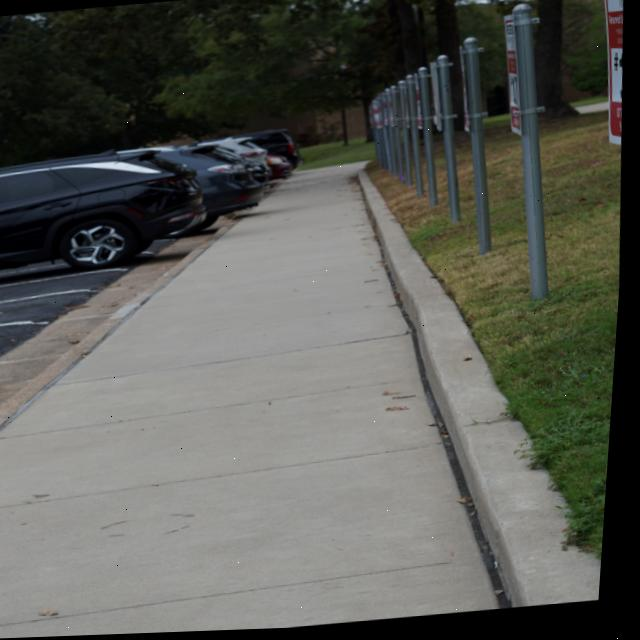Automobile: (0, 150, 209, 270), (152, 145, 270, 232), (198, 139, 274, 179), (248, 132, 306, 171), (269, 158, 295, 182)
Road: (0, 219, 231, 410)
Sidewalk: (0, 166, 508, 639)
